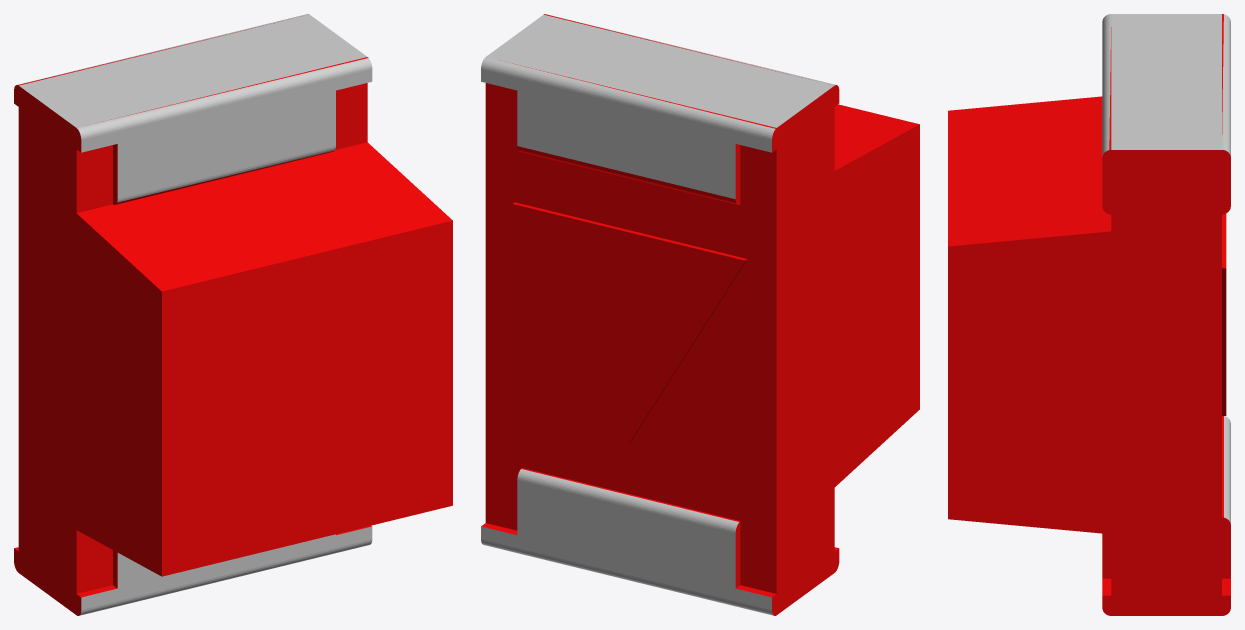
The model's file is LED.obj.
The picture shows the model from 3 angles, left to right: view 1: azimuth 30°, elevation 25°; view 2: azimuth 150°, elevation 25°; view 3: azimuth 270°, elevation 25°; orthographic projection. The views are drawn at different scales.
Parts seen in each view (by area): view 1: obj1; view 2: obj1; view 3: obj1.
Part boxes in pixels (bbox=[...]): obj1: bbox=[14, 14, 452, 615]; obj1: bbox=[481, 14, 919, 615]; obj1: bbox=[948, 14, 1230, 615].
Size of the model in its own units: 5 by 8 by 4.4.
